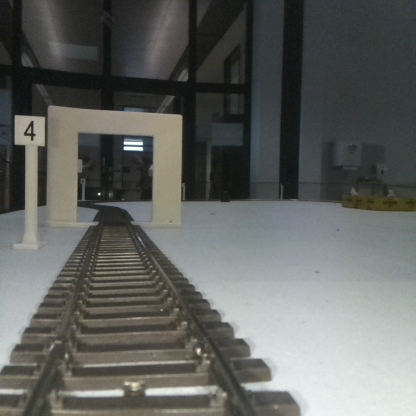white-info-4: (15, 115, 44, 247)
